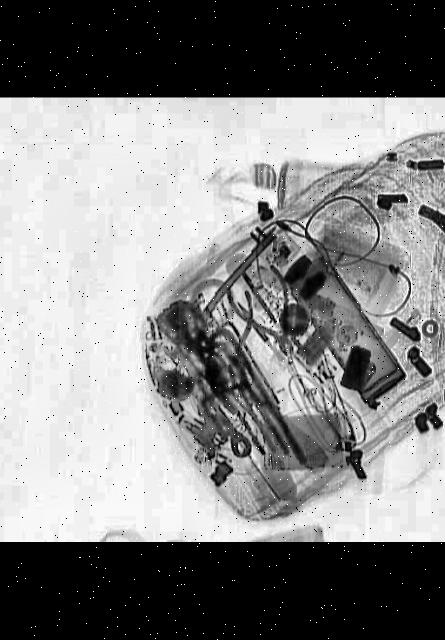Pliers: (217, 264, 316, 366)
Wrench: (193, 393, 256, 460)
